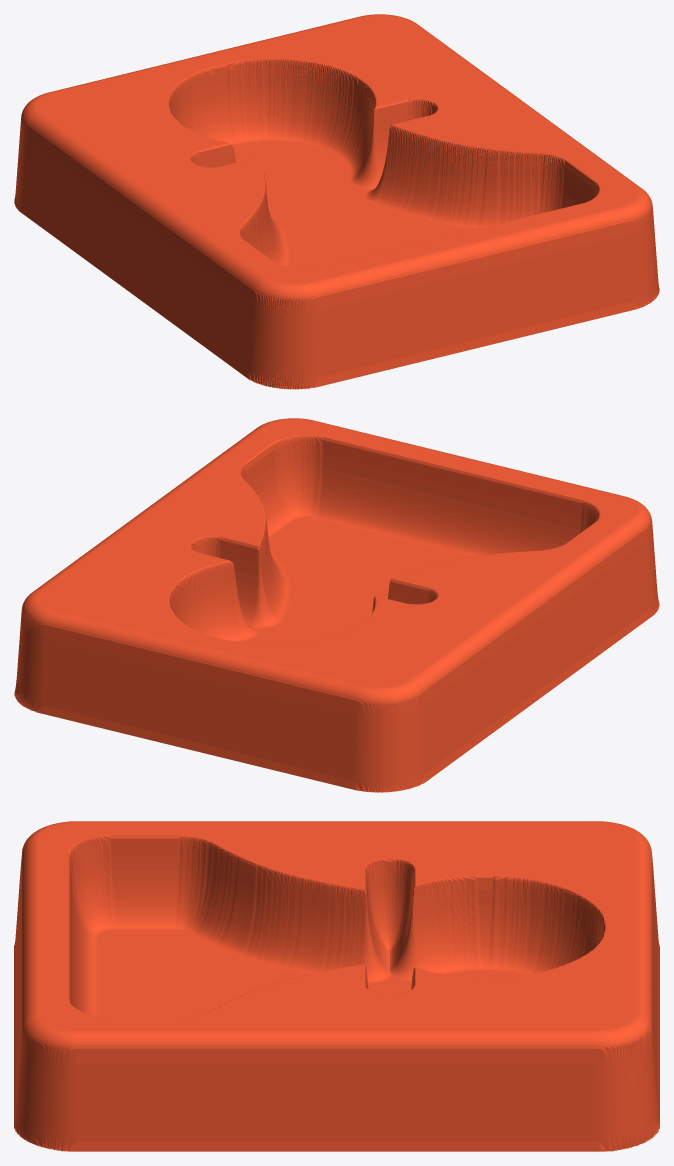
Rendered from mold.glb.
3 renders of one model, top to bottom at view 1: azimuth 30°, elevation 25°; view 2: azimuth 150°, elevation 25°; view 3: azimuth 270°, elevation 25°, orthographic. The views are drawn at different scales.
Parts seen in each view (by area): view 1: geometry_0; view 2: geometry_0; view 3: geometry_0.
Part boxes in pixels (box(x1,y1,x2,y2)): geometry_0: box(14, 14, 659, 389); geometry_0: box(14, 418, 659, 792); geometry_0: box(14, 821, 659, 1151).
Size of the model in its own units: 0.0774 by 0.0175 by 0.0924.
